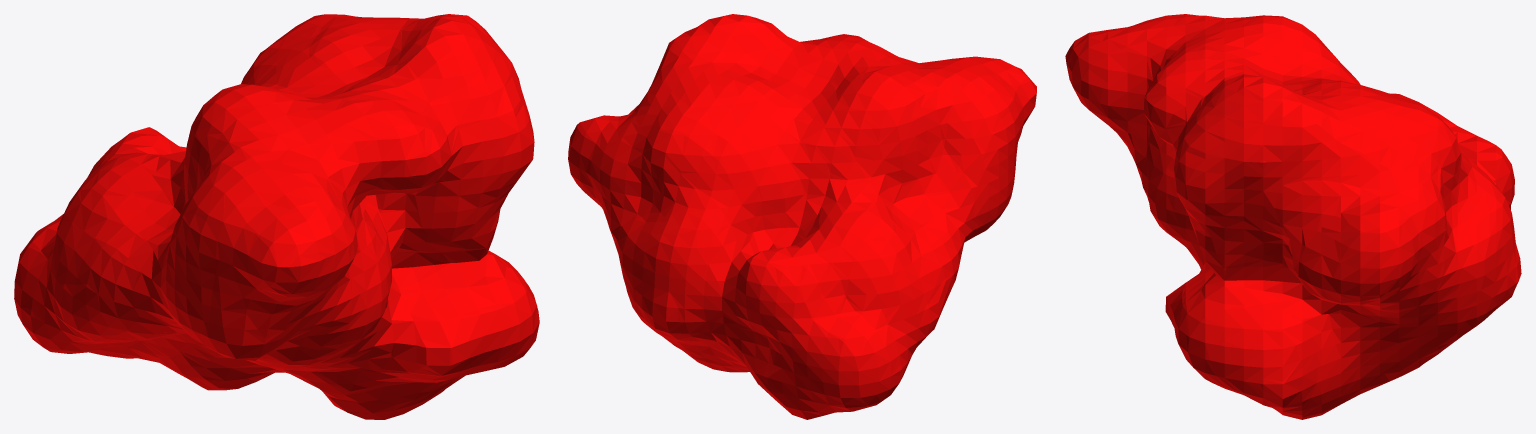
File: manZ_coarse.dae
The picture shows the model from 3 angles, left to right: view 1: azimuth 30°, elevation 25°; view 2: azimuth 150°, elevation 25°; view 3: azimuth 270°, elevation 25°; orthographic projection. The views are drawn at different scales.
Visible parts, largest first — view 1: manZ; view 2: manZ; view 3: manZ.
Part boxes in pixels (<box>): manZ: <box>14,14,539,419</box>; manZ: <box>568,14,1036,419</box>; manZ: <box>1065,14,1521,419</box>.
Bounding box in the file's own units: 56.4 × 47.48 × 56.33.
